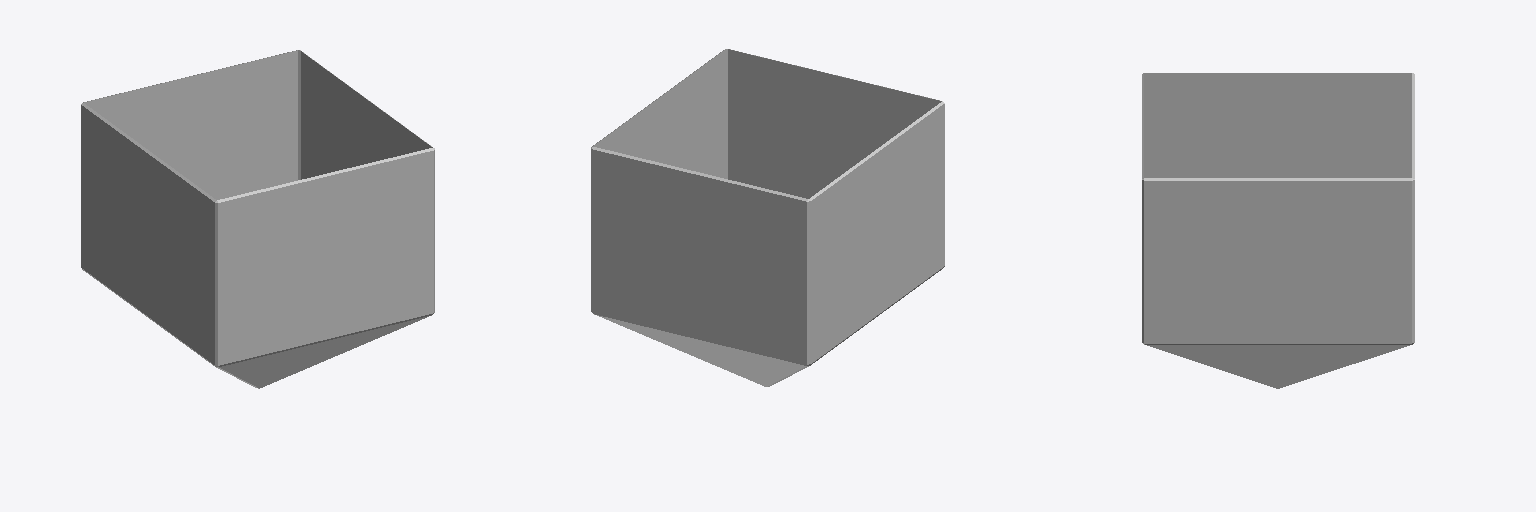
The model's file is oldacad.obj.
The picture shows the model from 3 angles: view 1: azimuth 30°, elevation 25°; view 2: azimuth 150°, elevation 25°; view 3: azimuth 270°, elevation 25°; orthographic projection.
Size of the model in its own units: 2.29 by 2.54 by 2.43.